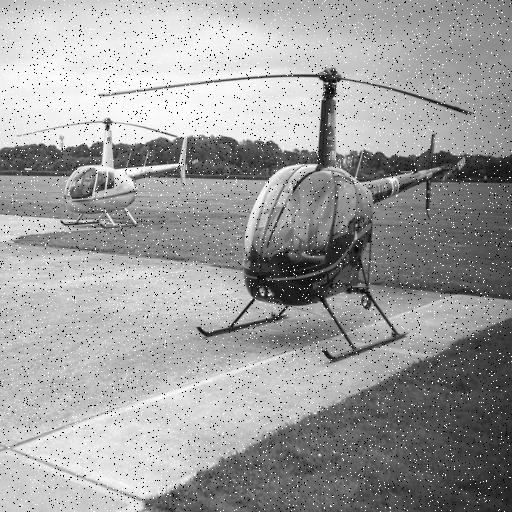helicopter: (98, 66, 474, 365), (20, 121, 201, 234)
